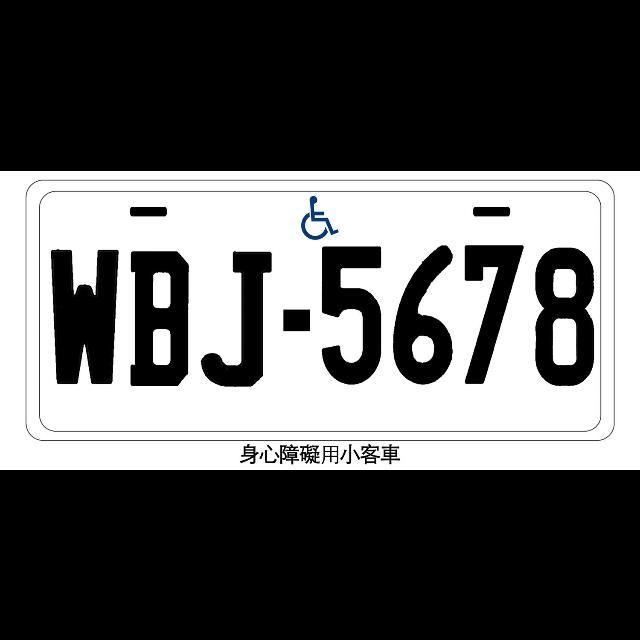plate: (25, 178, 618, 442)
